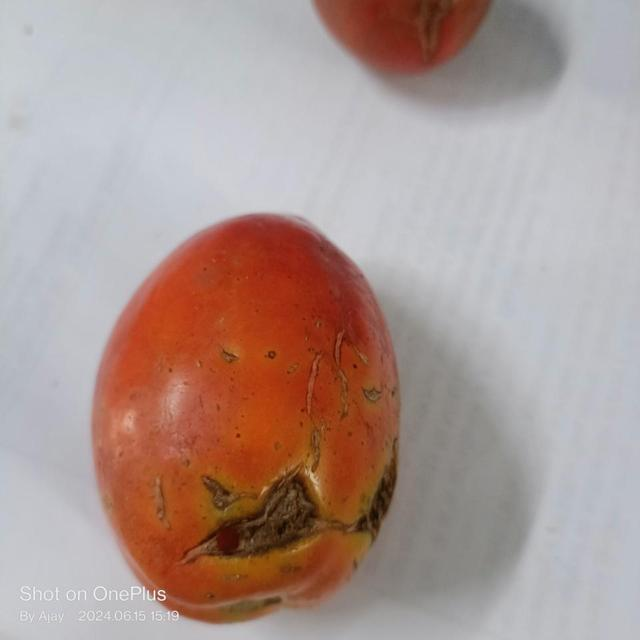Cracking Fruit: (80, 192, 321, 542)
